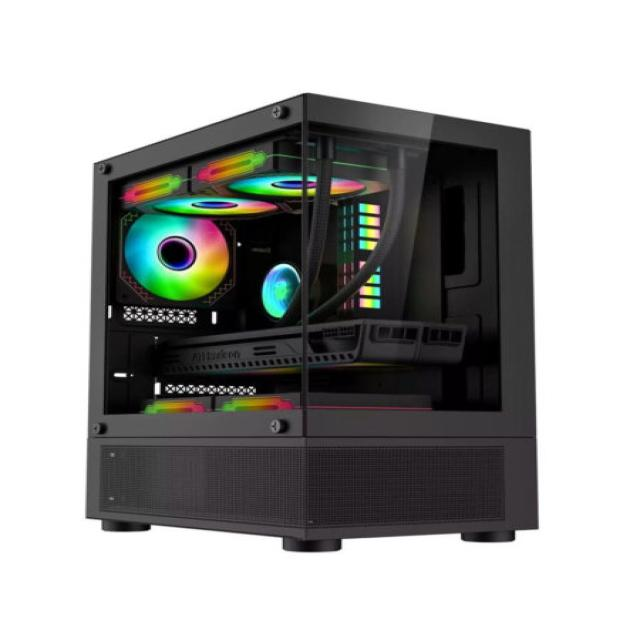electronics: (87, 93, 535, 550), (307, 146, 414, 321), (122, 196, 274, 299), (121, 139, 314, 204), (117, 206, 235, 304), (122, 213, 229, 299), (307, 321, 462, 368), (307, 318, 465, 364), (158, 327, 300, 378), (158, 325, 302, 375), (307, 136, 334, 282), (338, 201, 383, 283), (145, 392, 302, 412), (145, 393, 300, 410), (152, 196, 274, 217), (333, 149, 384, 196), (196, 150, 267, 182), (344, 265, 390, 311), (262, 263, 299, 317), (229, 174, 314, 196), (121, 174, 181, 203), (210, 393, 302, 410), (218, 393, 300, 410), (155, 235, 196, 268), (306, 393, 391, 408), (307, 393, 391, 408), (306, 393, 395, 407), (307, 393, 391, 407), (141, 397, 210, 414), (331, 177, 364, 195), (401, 393, 430, 410), (358, 203, 377, 225), (402, 394, 428, 410), (402, 393, 428, 407), (402, 394, 428, 408), (415, 153, 422, 163), (183, 385, 192, 392), (229, 386, 235, 389), (270, 293, 273, 296), (260, 203, 262, 206)
